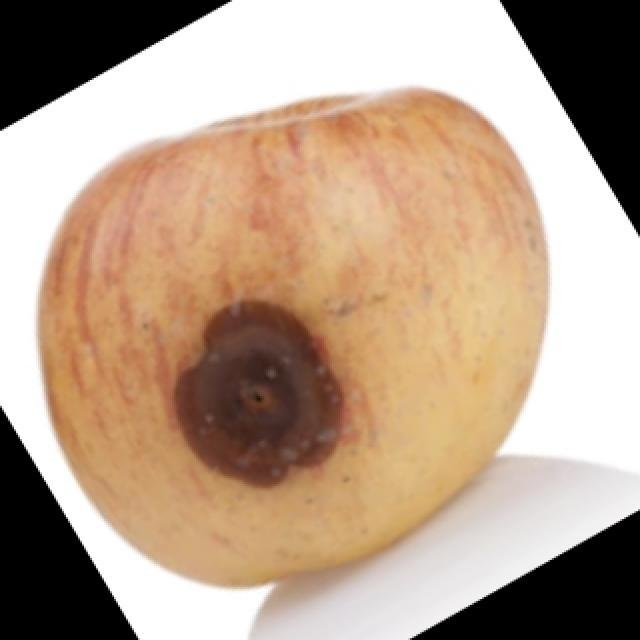Rotten: (29, 71, 538, 582)
